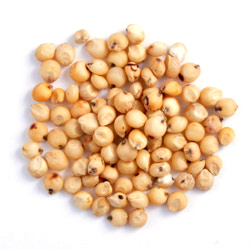seed: (17, 17, 241, 233)
